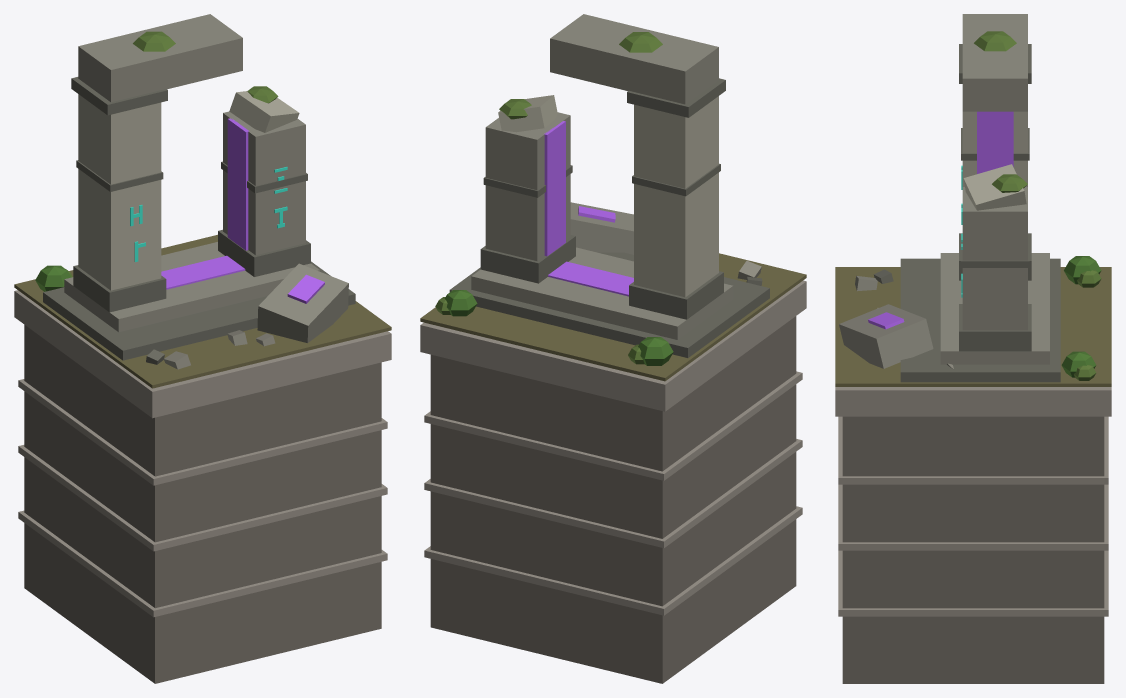
Rendered from decor_portal_gate.glb.
3 views of the same model, side by side, from view 1: azimuth 30°, elevation 25°; view 2: azimuth 150°, elevation 25°; view 3: azimuth 270°, elevation 25° (orthographic). The views are drawn at different scales.
Visible parts, largest first — view 1: decor_portal_gate; view 2: decor_portal_gate; view 3: decor_portal_gate.
Boxes of the visible parts, box(x1,y1,x2,y2) form: decor_portal_gate: box(14, 14, 391, 683); decor_portal_gate: box(420, 14, 806, 683); decor_portal_gate: box(835, 14, 1111, 683).
Bounding box in the file's own units: 3.8 × 8.74 × 3.8.
